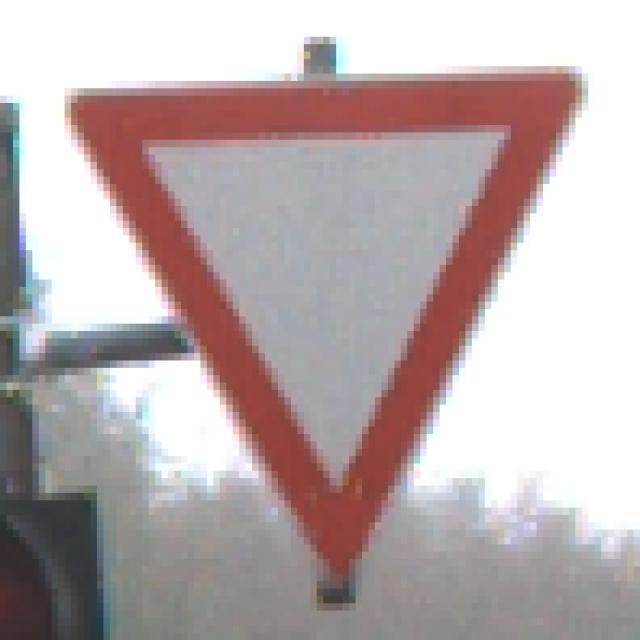Give Way: (59, 60, 589, 589)
